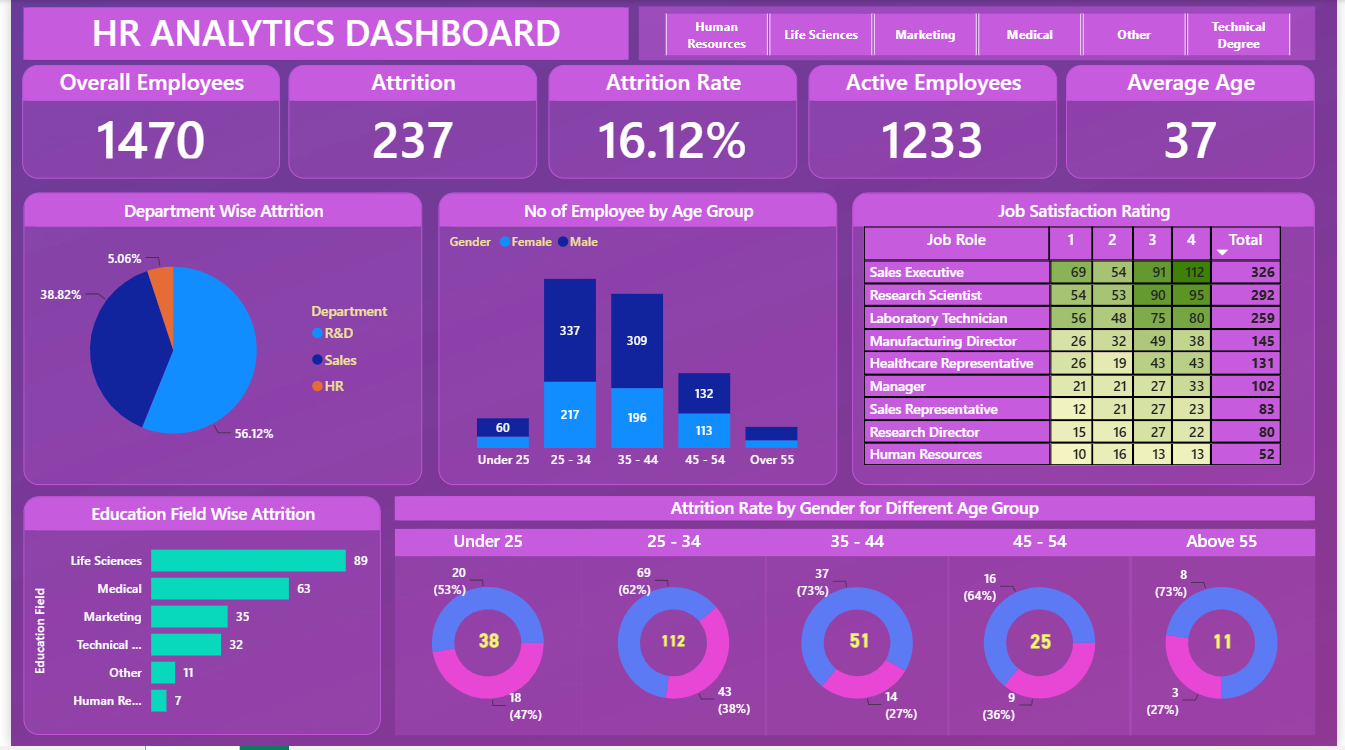

This screenshot's page, from the dashboard's own definition file:
{"tool":"powerbi","page":{"name":"Page 1","canvas":[1280,720],"ordinal":0},"visuals":[{"type":"cardVisual","title":"Overall Employees","fields":{"Data":["CountNonNull(HR Data.Employee Count)"]},"box":[10.9,62.7,248.5,109.8],"z":0},{"type":"cardVisual","title":"Attrition","fields":{"Data":["Sum(HR Data.Attrition Count)"]},"box":[267.8,62.7,240.1,109.8],"z":1000},{"type":"cardVisual","title":"Attrition Rate","fields":{"Data":["HR Data.Attrition Rate"]},"box":[518.8,62.7,240.1,109.8],"z":2000},{"type":"cardVisual","title":"Active Employees","fields":{"Data":["HR Data.Active Employees"]},"box":[769.7,62.7,240.1,109.8],"z":3000},{"type":"cardVisual","title":"Average Age","fields":{"Data":["Avg(HR Data.Age)"]},"box":[1018.2,62.7,240.1,109.8],"z":4000},{"type":"pieChart","title":"Department Wise Attrition","fields":{"Category":["HR Data.Department"],"Y":["Sum(HR Data.Attrition Count)"]},"box":[12.1,185.8,384.9,282.3],"z":5000},{"type":"columnChart","title":"No of Employee by Age Group","fields":{"Category":["HR Data.CF_age band"],"Series":["HR Data.Gender"],"Y":["Sum(HR Data.Employee Count)"]},"box":[412.6,185.8,384.9,282.3],"z":6000},{"type":"pivotTable","title":"Job Satisfaction Rating","fields":{"Columns":["HR Data.Job Satisfaction"],"Rows":["HR Data.Job Role"],"Values":["Sum(HR Data.Employee Count)"]},"box":[811.9,185.8,446.4,282.3],"z":7000},{"type":"barChart","title":"Education Field Wise Attrition","fields":{"Category":["HR Data.Education Field"],"Y":["Sum(HR Data.Attrition Count)"]},"box":[12.1,479,345,230],"z":8000},{"type":"donutChart","title":"Under 25","fields":{"Category":["HR Data.Gender"],"Series":["HR Data.CF_age band"],"Y":["Sum(HR Data.Attrition Count)"]},"box":[370.4,510.3,180,199.1],"z":9000},{"type":"textbox","title":"Attrition Rate by Gender for Different Age Group","box":[370.4,479,887.9,22.9],"z":10000},{"type":"donutChart","title":"25 - 34","fields":{"Category":["HR Data.Gender"],"Series":["HR Data.CF_age band"],"Y":["Sum(HR Data.Attrition Count)"]},"box":[550.1,510.3,179,199.1],"z":11000},{"type":"donutChart","title":"35 - 44","fields":{"Category":["HR Data.Gender"],"Series":["HR Data.CF_age band"],"Y":["Sum(HR Data.Attrition Count)"]},"box":[727.5,510.3,178.6,199.1],"z":12000},{"type":"donutChart","title":"45 - 54","fields":{"Category":["HR Data.Gender"],"Series":["HR Data.CF_age band"],"Y":["Sum(HR Data.Attrition Count)"]},"box":[903.6,510.3,178.6,199.1],"z":13000},{"type":"donutChart","title":"Above 55","fields":{"Category":["HR Data.Gender"],"Series":["HR Data.CF_age band"],"Y":["Sum(HR Data.Attrition Count)"]},"box":[1078.6,510.3,180,199.1],"z":14000},{"type":"cardVisual","fields":{"Data":["Sum(HR Data.Attrition Count)"]},"box":[422.3,583.9,78.4,66.4],"z":15000},{"type":"cardVisual","fields":{"Data":["Sum(HR Data.Attrition Count)"]},"box":[778.2,585.1,82,63.9],"z":16000},{"type":"cardVisual","fields":{"Data":["Sum(HR Data.Attrition Count)"]},"box":[595.4,585.4,86.7,65.4],"z":17000},{"type":"cardVisual","fields":{"Data":["Sum(HR Data.Attrition Count)"]},"box":[954.9,585.4,79.6,65.4],"z":18000},{"type":"cardVisual","fields":{"Data":["Sum(HR Data.Attrition Count)"]},"box":[1130.4,585.1,78.4,65.1],"z":19000},{"type":"textbox","title":"HR ANALYTICS DASHBOARD","box":[12.1,7.2,583.9,50.7],"z":20000},{"type":"slicer","fields":{"Values":["HR Data.Education Field"]},"box":[605.6,6,652.7,51.9],"z":21000}]}

Visuals, with their boxes in screenshot pixels (x1, y1, x2, y2), scaled from the page's 1280x720 canvas onto the 1345x750 screenshot:
"Overall Employees" cardVisual: (11,65,273,180)
"Attrition" cardVisual: (281,65,534,180)
"Attrition Rate" cardVisual: (545,65,797,180)
"Active Employees" cardVisual: (809,65,1061,180)
"Average Age" cardVisual: (1070,65,1322,180)
"Department Wise Attrition" pieChart: (13,194,417,488)
"No of Employee by Age Group" columnChart: (434,194,838,488)
"Job Satisfaction Rating" pivotTable: (853,194,1322,488)
"Education Field Wise Attrition" barChart: (13,499,375,739)
"Under 25" donutChart: (389,532,578,739)
"Attrition Rate by Gender for Different Age Group" textbox: (389,499,1322,523)
"25 - 34" donutChart: (578,532,766,739)
"35 - 44" donutChart: (764,532,952,739)
"45 - 54" donutChart: (949,532,1137,739)
"Above 55" donutChart: (1133,532,1323,739)
cardVisual - Sum(HR Data.Attrition Count): (444,608,526,677)
cardVisual - Sum(HR Data.Attrition Count): (818,609,904,676)
cardVisual - Sum(HR Data.Attrition Count): (626,610,717,678)
cardVisual - Sum(HR Data.Attrition Count): (1003,610,1087,678)
cardVisual - Sum(HR Data.Attrition Count): (1188,609,1270,677)
"HR ANALYTICS DASHBOARD" textbox: (13,8,626,60)
slicer - HR Data.Education Field: (636,6,1322,60)
